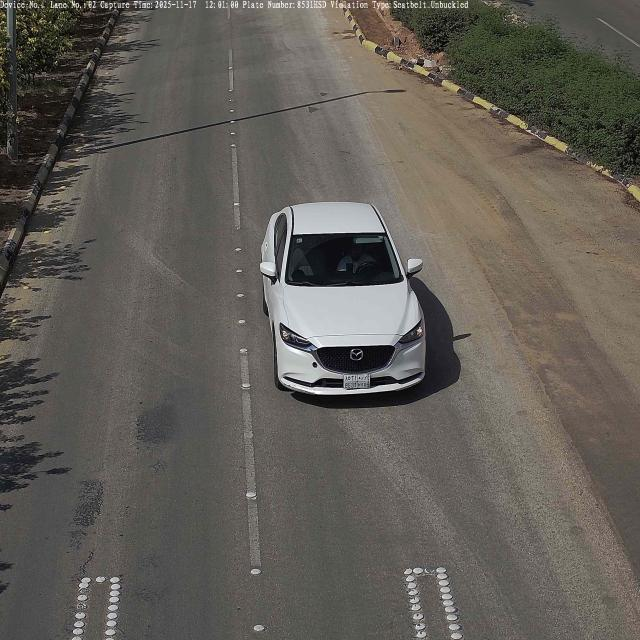person_without_seatbelt: (338, 243, 378, 274)
